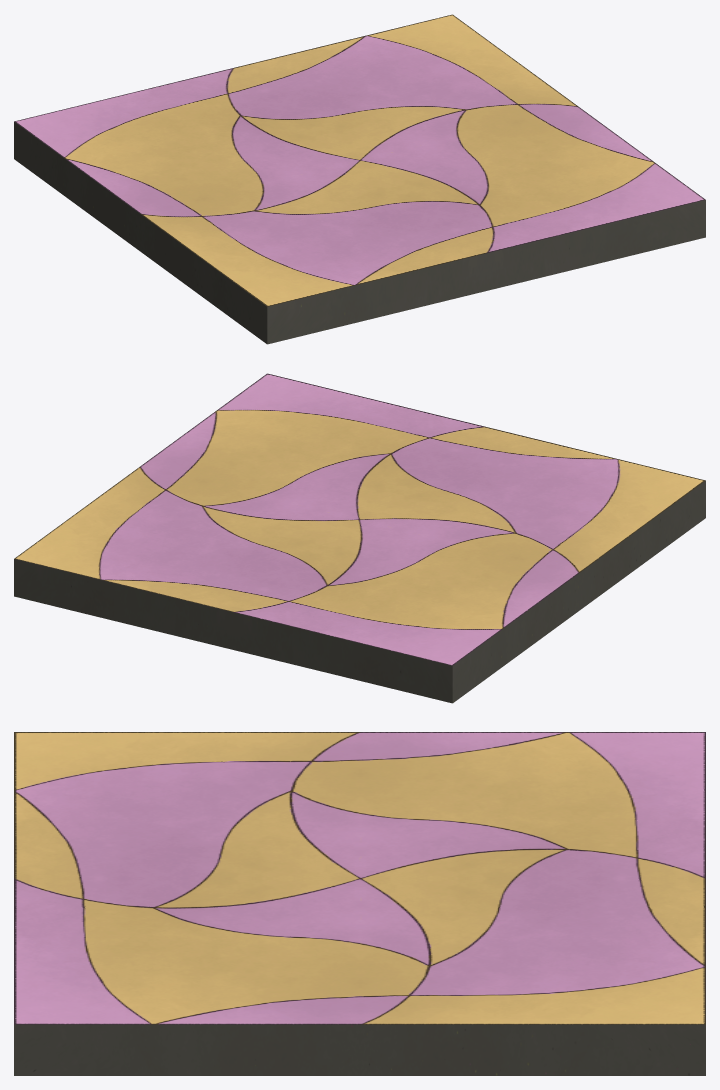
File: tile_flat.fbx
3 views of the same model, one above another, from view 1: azimuth 30°, elevation 25°; view 2: azimuth 150°, elevation 25°; view 3: azimuth 270°, elevation 25° (orthographic). The views are drawn at different scales.
Visible parts, largest first — view 1: Cube.001; view 2: Cube.001; view 3: Cube.001.
Boxes of the visible parts, <box> form: Cube.001: <box>14,14,705,344</box>; Cube.001: <box>14,373,705,703</box>; Cube.001: <box>14,732,705,1075</box>.
Bounding box in the file's own units: 100 × 8.19 × 100.
